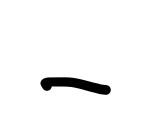minus: (40, 77, 110, 95)
